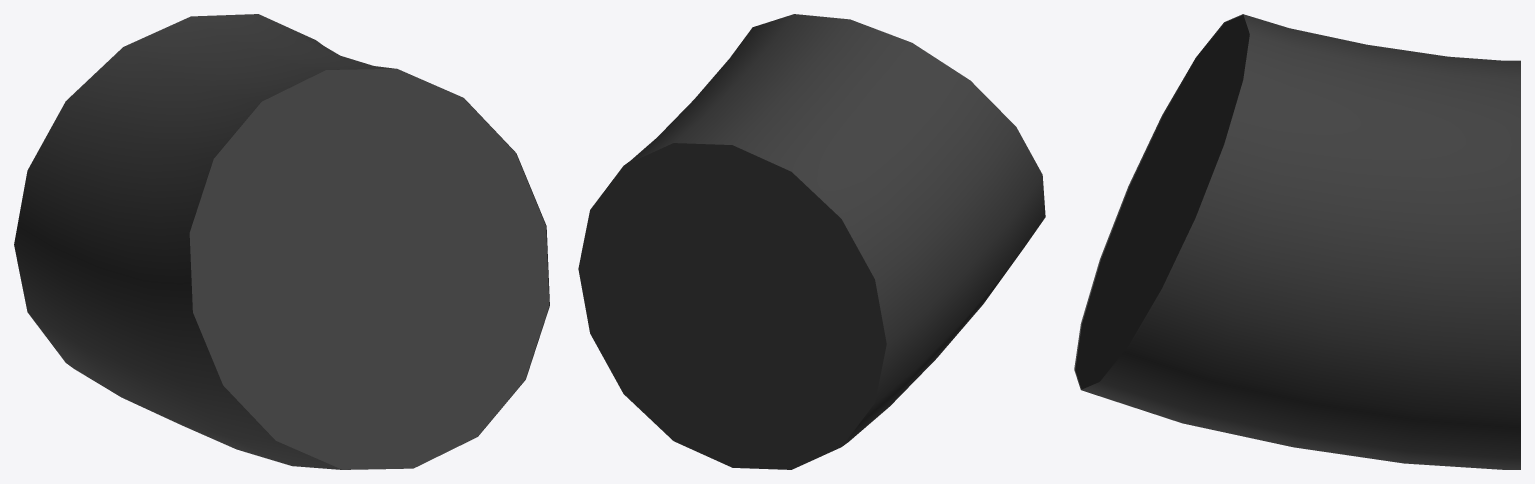
The picture shows the model from 3 angles, left to right: view 1: azimuth 30°, elevation 25°; view 2: azimuth 150°, elevation 25°; view 3: azimuth 270°, elevation 25°; orthographic projection. The views are drawn at different scales.
Visible parts, largest first — view 1: Obtuse Pipe.001; view 2: Obtuse Pipe.001; view 3: Obtuse Pipe.001.
Boxes of the visible parts, x1,y1,x2,y2 form: Obtuse Pipe.001: (14,14,549,469); Obtuse Pipe.001: (578,14,1045,469); Obtuse Pipe.001: (1074,14,1520,469).
Bounding box in the file's own units: 200 × 224 × 218.
